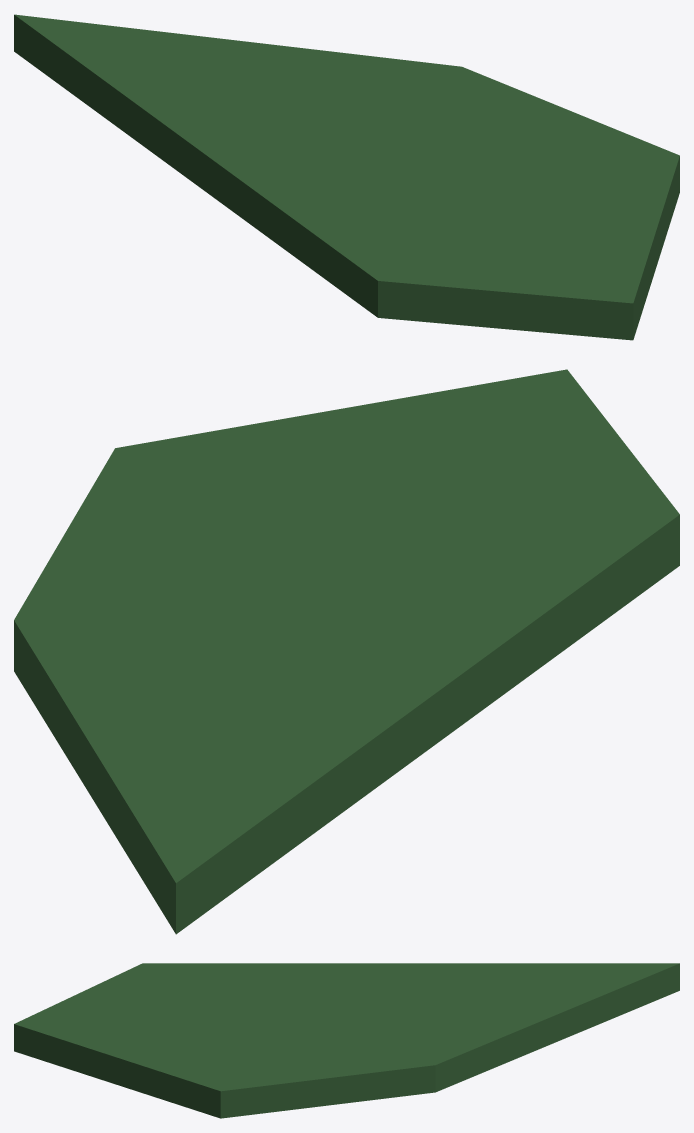
File: x_proval_00_170_1_rmstrd.fbx
3 renders of one model, top to bottom at view 1: azimuth 30°, elevation 25°; view 2: azimuth 150°, elevation 25°; view 3: azimuth 270°, elevation 25°, orthographic. The views are drawn at different scales.
Parts seen in each view (by area): view 1: x_proval_00_170_1_rmstrd1; view 2: x_proval_00_170_1_rmstrd1; view 3: x_proval_00_170_1_rmstrd1.
Boxes of the visible parts, x1,y1,x2,y2 form: x_proval_00_170_1_rmstrd1: (14, 14, 679, 340); x_proval_00_170_1_rmstrd1: (14, 369, 679, 934); x_proval_00_170_1_rmstrd1: (14, 963, 679, 1118).
Size of the model in its own units: 2.01 by 0.2 by 4.42.
